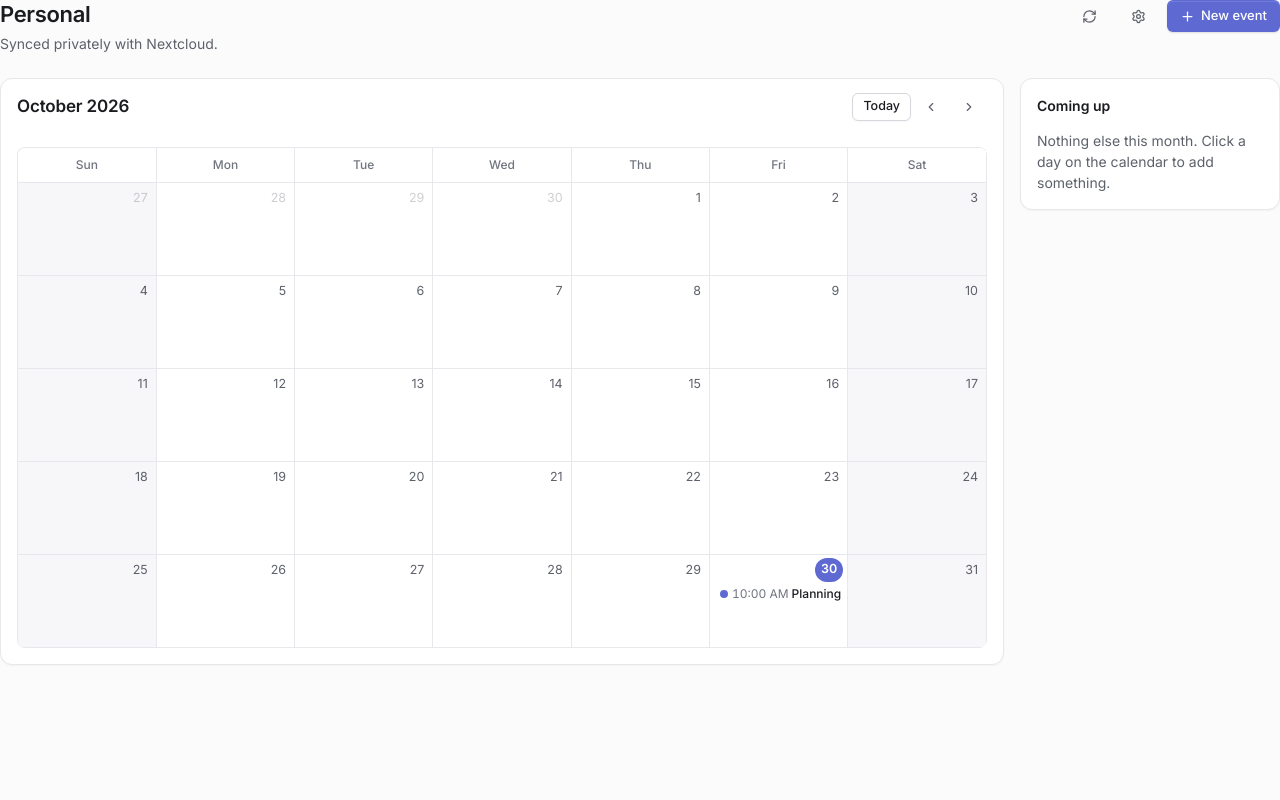
Test case: Calendar › shows the month view and opens the event editor
Check: the text "Planning" is shown, box [792,585,841,603]
Check: the heading "Personal" is shown, box [0,1,90,27]
Click the button "New event": (1224, 16) [1167,0,1279,32]
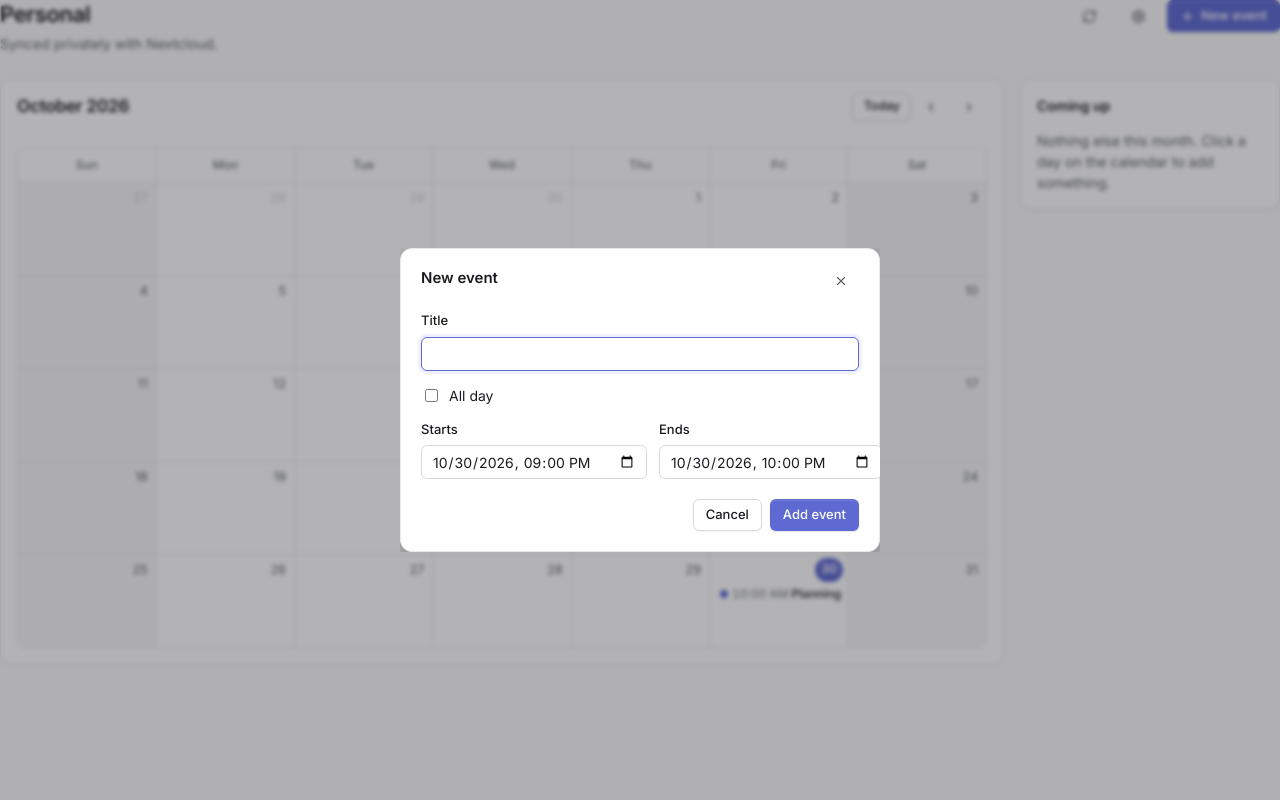
Check: the dialog "New event" is shown, box [400,248,880,552]
